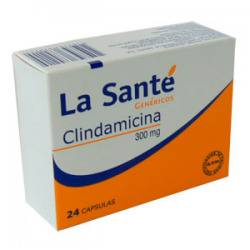LaSante: (51, 44, 230, 231)
